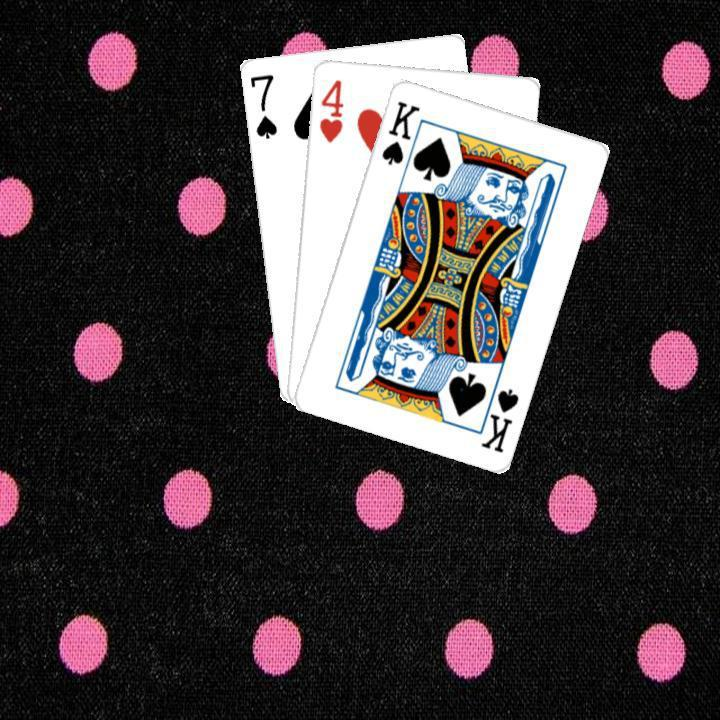4: (314, 75, 345, 144)
7: (245, 69, 279, 140)
K: (473, 373, 521, 454), (377, 96, 421, 167)
